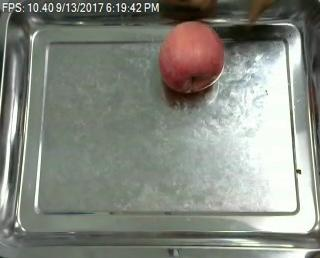apple: (159, 21, 225, 93)
